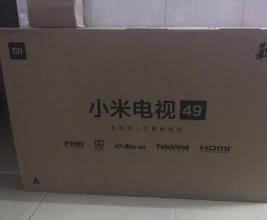cardboard: (0, 28, 266, 201)
